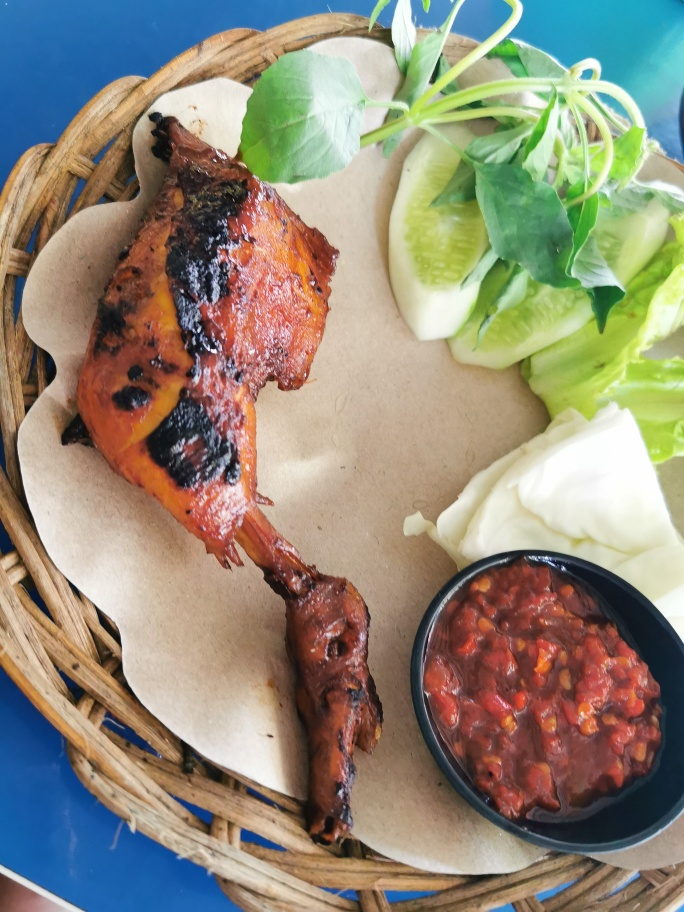ayam bakar: (59, 98, 413, 838)
